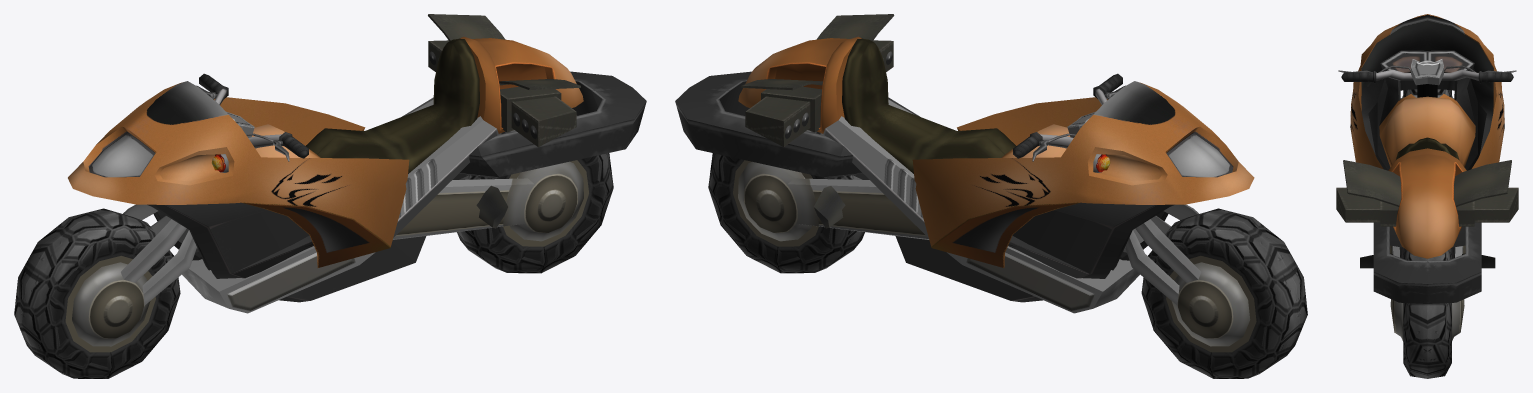
The model's file is Bike_3.fbx.
3 views of the same model, side by side, from view 1: azimuth 30°, elevation 25°; view 2: azimuth 150°, elevation 25°; view 3: azimuth 270°, elevation 25° (orthographic). The views are drawn at different scales.
Visible parts, largest first — view 1: Body, FrontWheel, Handle, BackWheel; view 2: Body, FrontWheel, Handle, BackWheel; view 3: Body, BackWheel, Handle, FrontWheel.
Boxes of the visible parts, <box> form: Body: <box>68,14,646,313</box>; FrontWheel: <box>14,208,180,378</box>; Handle: <box>72,73,308,346</box>; BackWheel: <box>457,115,613,273</box>; Body: <box>675,14,1254,313</box>; FrontWheel: <box>1141,208,1307,378</box>; Handle: <box>1013,73,1250,346</box>; BackWheel: <box>708,115,864,273</box>; Body: <box>1336,14,1518,341</box>; BackWheel: <box>1403,248,1451,378</box>; Handle: <box>1338,59,1516,98</box>; FrontWheel: <box>1403,89,1451,97</box>.
Bounding box in the file's own units: 6.09 × 2.5 × 1.9.
